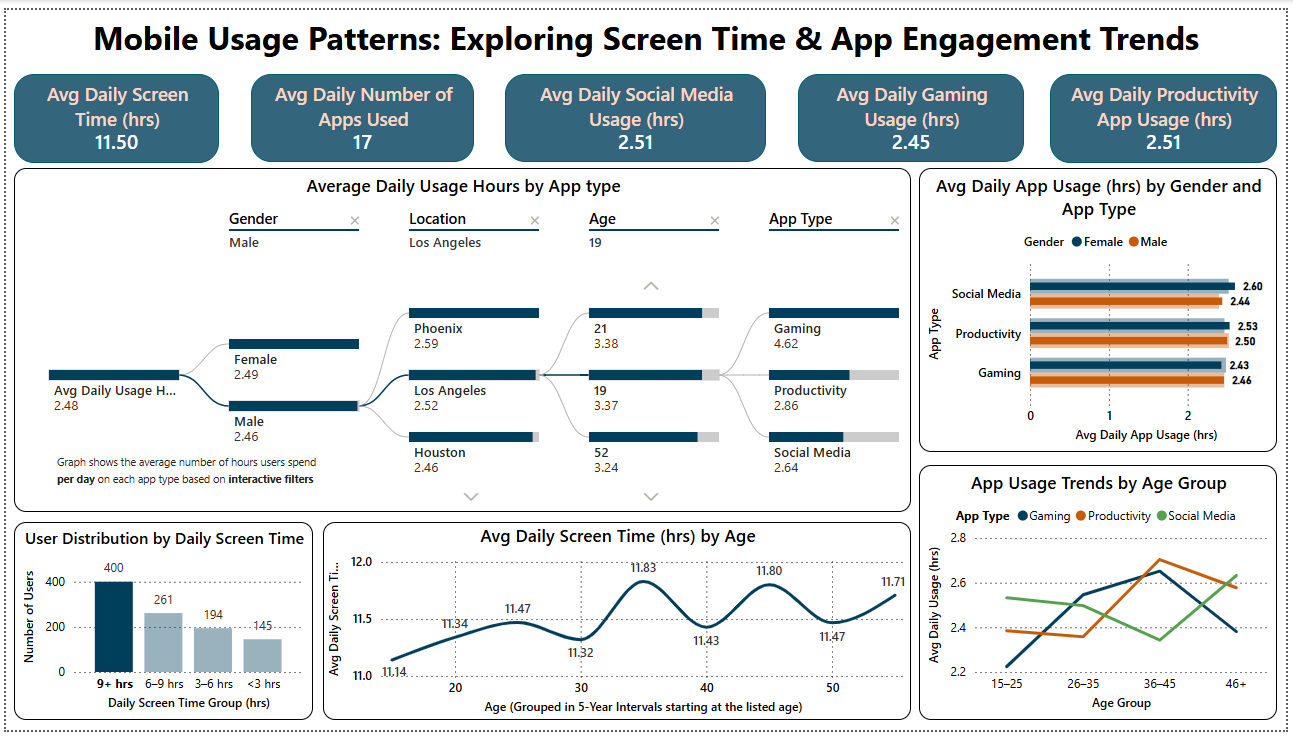

The page's visual inventory and layout, read from the dashboard file:
{"tool":"powerbi","page":{"name":"Page 1","canvas":[1280,720],"ordinal":0},"visuals":[{"type":"textbox","box":[0,0,1280,75.8],"z":0},{"type":"decompositionTreeVisual","title":"Average Daily Usage Hours by App type","fields":{"ExplainBy":["mobile_usage_behavioral_analysis.Gender","mobile_usage_behavioral_analysis.Location","mobile_usage_behavioral_analysis.Age","App_Usage_By_Type.App_Usage_Type"],"Analyze":["App_Usage_By_Type.Avg Daily Usage Hours by App Type"]},"box":[8.1,157.6,897.3,343.9],"z":0,"group":"g1"},{"type":"card","title":"Avg Daily Screen Time (hrs)","fields":{"Values":["Avg(mobile_usage_behavioral_analysis.Daily_Screen_Time_Hours)"]},"box":[8.1,63.6,205.1,89],"z":1000},{"type":"card","title":"Avg Daily Number of Apps Used","fields":{"Values":["Avg(mobile_usage_behavioral_analysis.Number_of_Apps_Used)"]},"box":[245.4,63.6,223,88.7],"z":2000},{"type":"card","title":"Avg Daily Social Media Usage (hrs)","fields":{"Values":["Avg(mobile_usage_behavioral_analysis.Social_Media_Usage_Hours)"]},"box":[499,63.6,260.6,88.7],"z":3000},{"type":"card","title":"Avg Daily Productivity App Usage (hrs)","fields":{"Values":["Avg(mobile_usage_behavioral_analysis.Productivity_App_Usage_Hours)"]},"box":[1044.2,63.6,226.6,89],"z":4000},{"type":"card","title":"Avg Daily Gaming Usage (hrs)","fields":{"Values":["Avg(mobile_usage_behavioral_analysis.Gaming_App_Usage_Hours)"]},"box":[791.6,63.6,226.6,88.7],"z":5000},{"type":"lineChart","title":"Avg Daily Screen Time (hrs) by Age","fields":{"Y":["Avg(mobile_usage_behavioral_analysis.Daily_Screen_Time_Hours)"],"Category":["mobile_usage_behavioral_analysis.Age (bins)"]},"box":[317,512.2,588.4,197.9],"z":6000},{"type":"clusteredColumnChart","title":"User Distribution by Daily Screen Time","fields":{"Category":["mobile_usage_behavioral_analysis.ScreenTimeGroup"],"Y":["CountNonNull(mobile_usage_behavioral_analysis.User_ID)"]},"box":[8.1,512.2,299.1,197.9],"z":7000},{"type":"clusteredBarChart","title":"Avg Daily App Usage (hrs) by Gender and App Type","fields":{"Category":["App_Usage_By_Type.App Type"],"Y":["Avg(App_Usage_By_Type.Usage_Hours)"],"Series":["GenderLookup.Gender"]},"box":[913.4,157.6,357.3,284.8],"z":8000},{"type":"lineChart","title":"App Usage Trends by Age Group","fields":{"Y":["Avg(App_Usage_By_Type.Usage_Hours)"],"Series":["App_Usage_By_Type.App Type"],"Category":["App_Usage_By_Type.Age_Group"]},"box":[913.4,454.9,357.3,255.2],"z":9000},{"type":"textbox","box":[45.9,436.5,281.6,61.4],"z":11000,"group":"g1"},{"type":"group","id":"g1","title":"Group 1","box":[8.1,157.6,897.3,343.9],"z":11001}]}

Visuals, with their boxes in screenshot pixels (x1, y1, x2, y2), scaled from the page's 1280x720 canvas onto the 1293x741 screenshot:
textbox: pyautogui.locateOnScreen(0, 0, 1292, 78)
"Average Daily Usage Hours by App type" decompositionTreeVisual: pyautogui.locateOnScreen(8, 162, 915, 516)
"Avg Daily Screen Time (hrs)" card: pyautogui.locateOnScreen(8, 65, 215, 157)
"Avg Daily Number of Apps Used" card: pyautogui.locateOnScreen(248, 65, 473, 157)
"Avg Daily Social Media Usage (hrs)" card: pyautogui.locateOnScreen(504, 65, 767, 157)
"Avg Daily Productivity App Usage (hrs)" card: pyautogui.locateOnScreen(1055, 65, 1284, 157)
"Avg Daily Gaming Usage (hrs)" card: pyautogui.locateOnScreen(800, 65, 1029, 157)
"Avg Daily Screen Time (hrs) by Age" lineChart: pyautogui.locateOnScreen(320, 527, 915, 731)
"User Distribution by Daily Screen Time" clusteredColumnChart: pyautogui.locateOnScreen(8, 527, 310, 731)
"Avg Daily App Usage (hrs) by Gender and App Type" clusteredBarChart: pyautogui.locateOnScreen(923, 162, 1284, 455)
"App Usage Trends by Age Group" lineChart: pyautogui.locateOnScreen(923, 468, 1284, 731)
textbox: pyautogui.locateOnScreen(46, 449, 331, 512)
"Group 1" group: pyautogui.locateOnScreen(8, 162, 915, 516)
